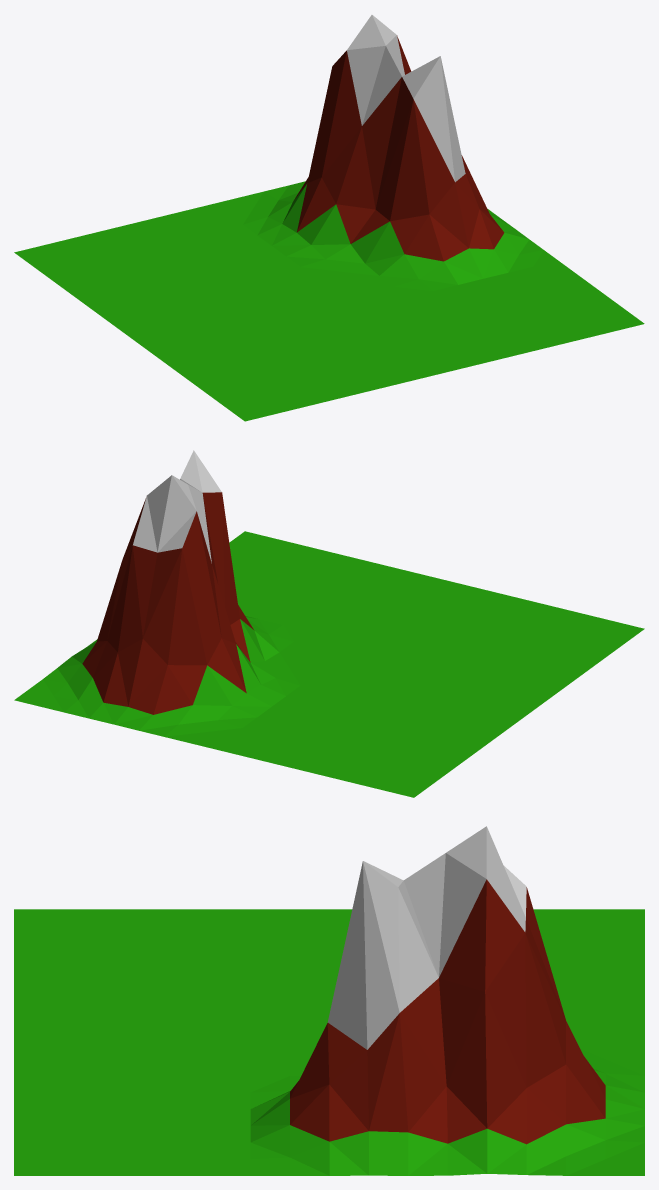
The model's file is full.obj.
3 views of the same model, one above another, from view 1: azimuth 30°, elevation 25°; view 2: azimuth 150°, elevation 25°; view 3: azimuth 270°, elevation 25° (orthographic). The views are drawn at different scales.
Visible parts, largest first — view 1: Plane; view 2: Plane; view 3: Plane.
Boxes of the visible parts, box(x1,y1,x2,y2) form: Plane: box(14, 15, 644, 421); Plane: box(14, 450, 644, 797); Plane: box(14, 826, 644, 1175).
Bounding box in the file's own units: 14.9 × 7.38 × 14.9.
